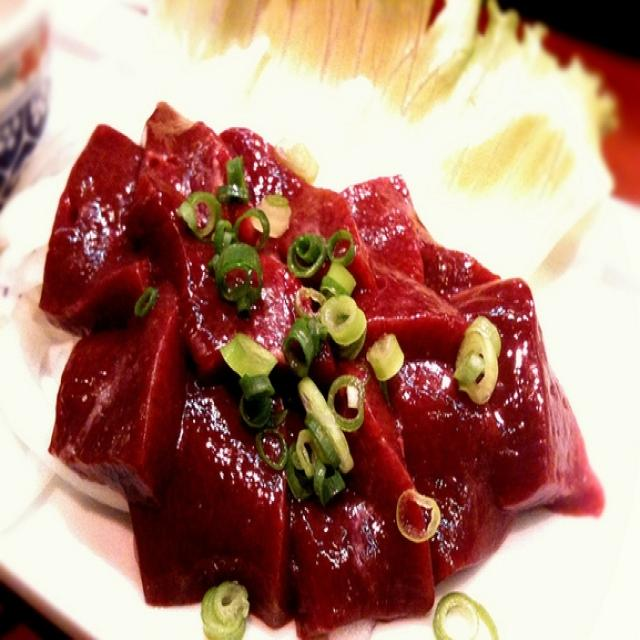刺身生食: (11, 66, 601, 624)
